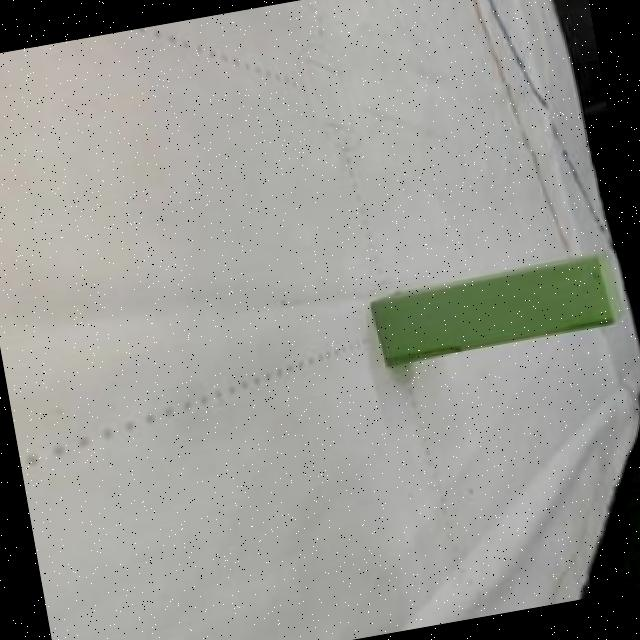greenbox: (361, 244, 635, 370)
